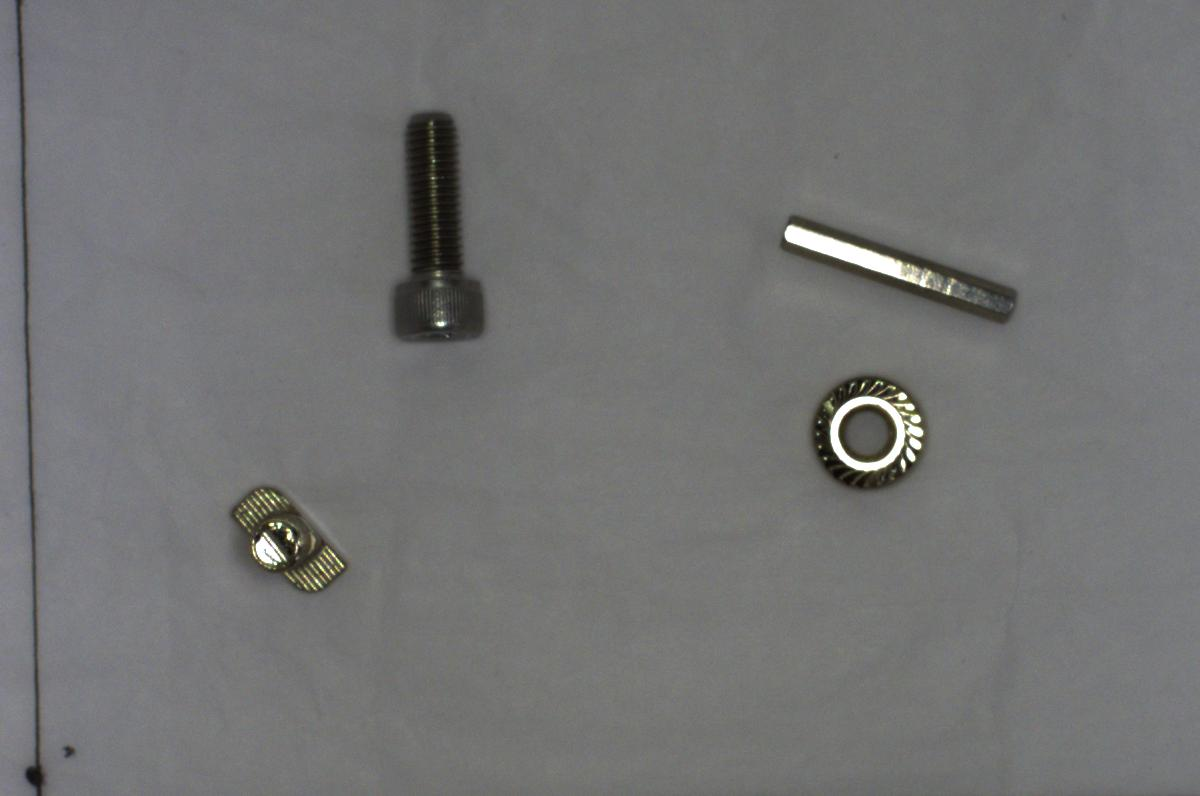Double hexagonal column: (773, 203, 1026, 326)
Flange nut: (797, 369, 933, 500)
Hexagon screw: (381, 101, 497, 358)
T-shaped screw: (220, 474, 355, 608)
